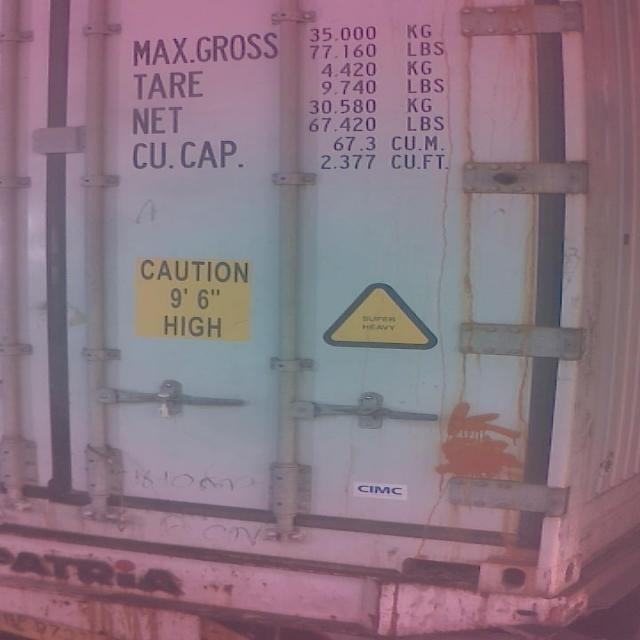seal: (154, 384, 176, 421)
